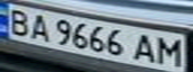6: (106, 27, 130, 57), (69, 20, 90, 51), (87, 25, 109, 54)
9: (48, 16, 75, 47)
A: (130, 30, 160, 63), (24, 11, 54, 42)
B: (3, 6, 33, 36)
M: (154, 35, 187, 66)
